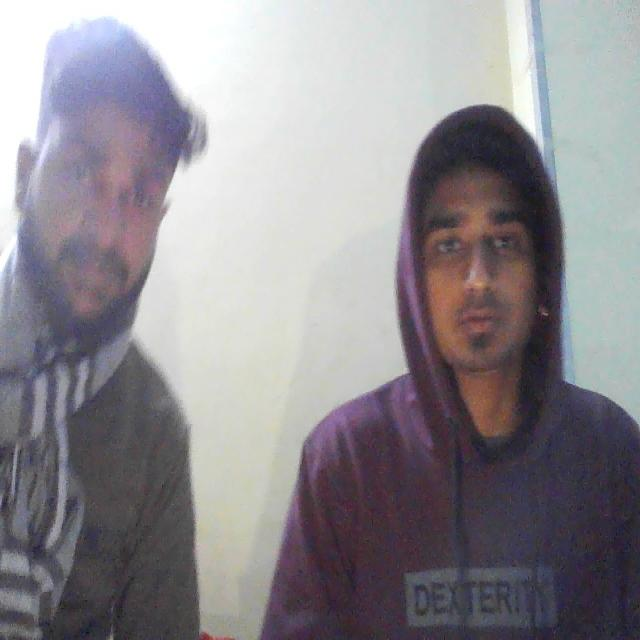real: (16, 17, 182, 332), (402, 104, 559, 400)
